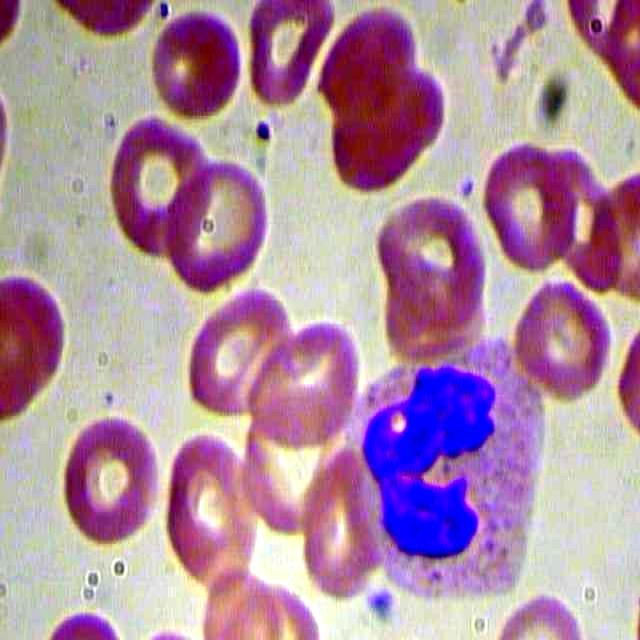RBC: (316, 1, 451, 204), (110, 109, 221, 263), (158, 426, 256, 598), (238, 313, 360, 451), (176, 283, 291, 420), (53, 408, 162, 549), (162, 152, 271, 293), (376, 189, 480, 319), (509, 275, 613, 404), (479, 140, 583, 269), (307, 448, 378, 607), (151, 1, 245, 119), (243, 1, 337, 119), (1, 271, 68, 429)
WBC: (338, 331, 562, 600)
